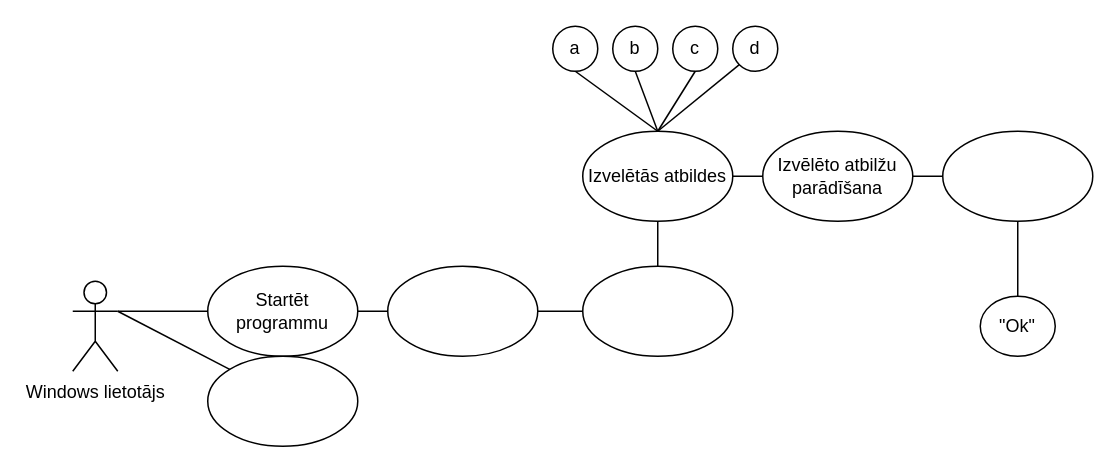
Image size: 1119x473. Some labels were removed from this diagram. The shapes that lost their labels are listed below. From the top down, each one's centre as x and y in pixels, then its label:
[1017,175]: Rezultātu izvade
[462,310]: "Sākt"
[657,310]: Izlasīt noteikumus
[282,400]: Aizvert programmu
